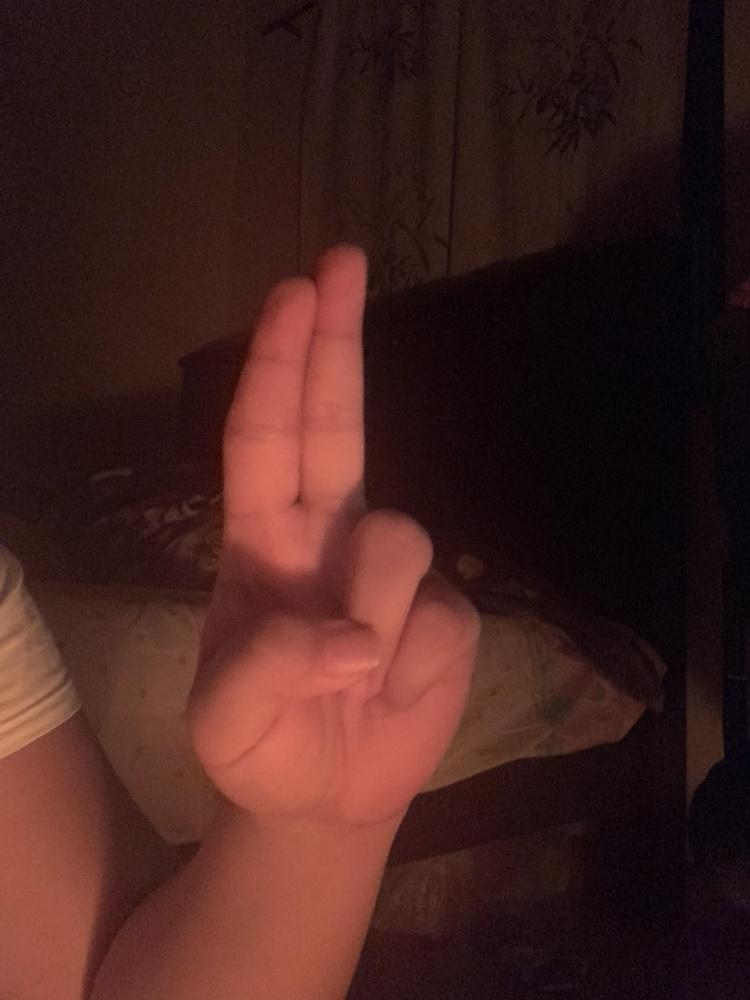u: (185, 242, 481, 825)
